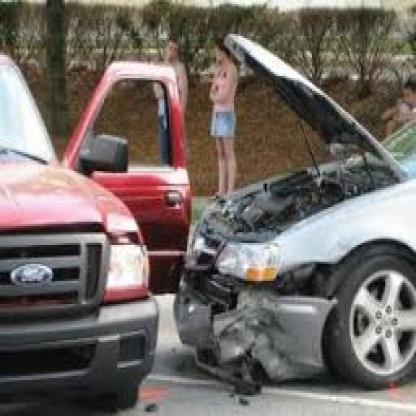accident: (54, 56, 410, 401)
